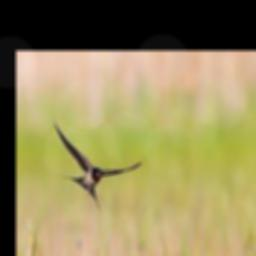Swallow: (55, 123, 143, 207)
